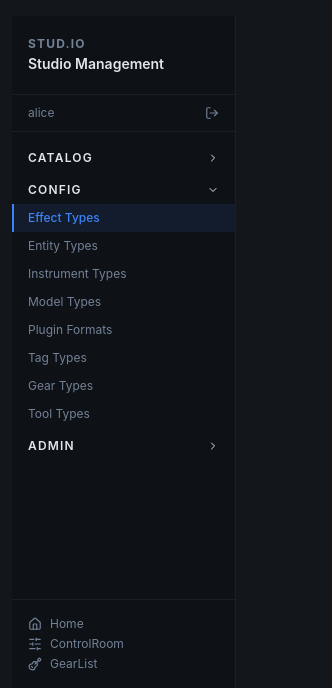
Test: UsersSidebar › collapses and expands the CONFIG group on toggle
Click the button "CONFIG". click: (124, 190)
box: x1=12 y1=176 x2=235 y2=204
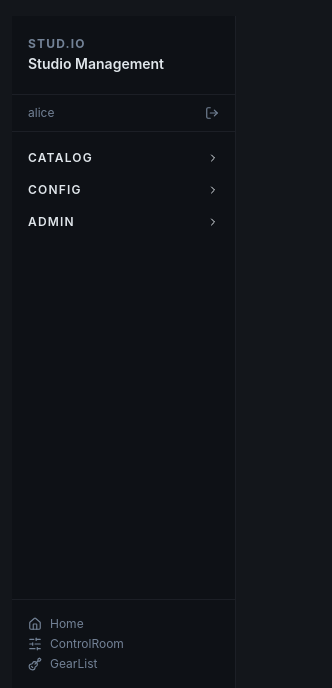
Now the link "Effect Types" is gone
Click the button "CONFIG". click: (124, 190)
box: x1=12 y1=176 x2=235 y2=204
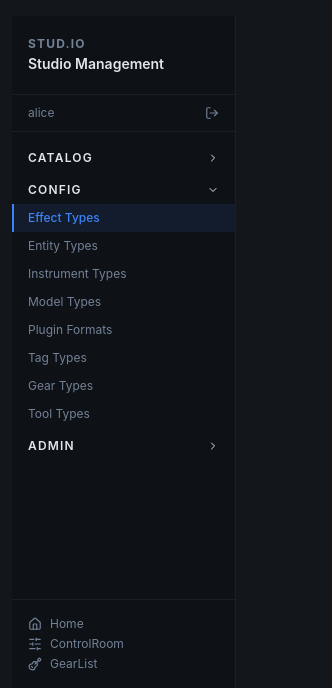
Now the link "Effect Types" is shown, box x1=12 y1=204 x2=235 y2=232
